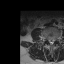CCS_stenosis: (50, 36, 52, 47)
LFS_stenosis: (54, 36, 56, 43)
LLS_normal: (52, 37, 54, 45)
RFS_stenosis: (46, 36, 48, 43)
RLS_normal: (48, 37, 50, 45)
